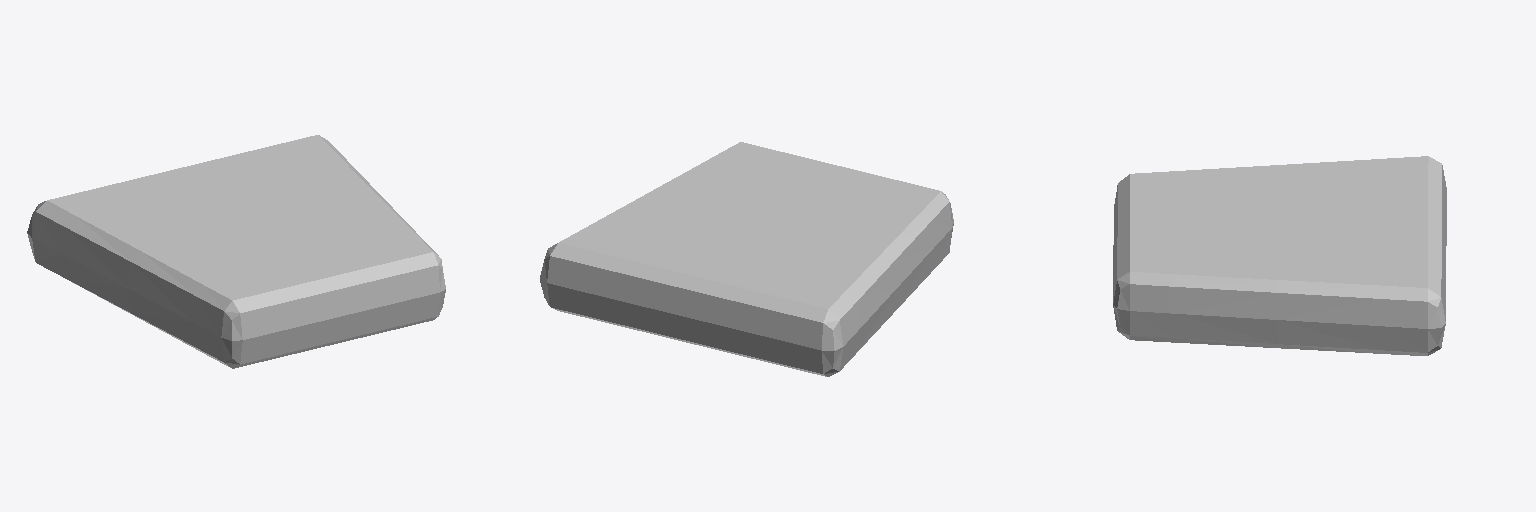
Rendered from tile.obj.
The picture shows the model from 3 angles: view 1: azimuth 30°, elevation 25°; view 2: azimuth 150°, elevation 25°; view 3: azimuth 270°, elevation 25°; orthographic projection.
Parts seen in each view (by area): view 1: bettingFieldOBJ_polySurface22; view 2: bettingFieldOBJ_polySurface22; view 3: bettingFieldOBJ_polySurface22.
Boxes of the visible parts, x1,y1,x2,y2 form: bettingFieldOBJ_polySurface22: [27, 135, 445, 368]; bettingFieldOBJ_polySurface22: [540, 142, 953, 376]; bettingFieldOBJ_polySurface22: [1113, 156, 1446, 355].
Size of the model in its own units: 1.97 by 0.43 by 1.9.